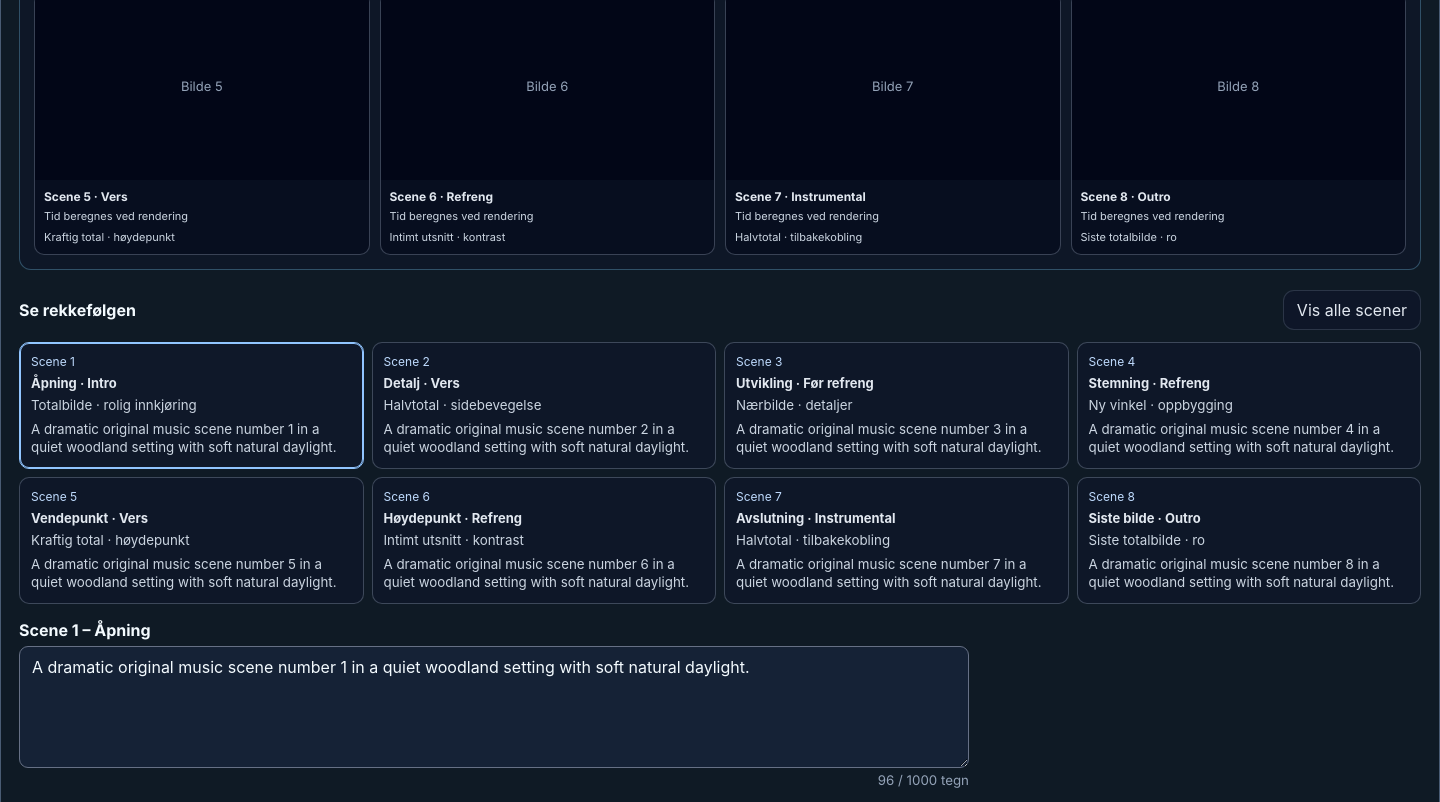
Test case: author-approved storyboard › can select a scene or show every scene in a responsive list
This screenshot has width=1440, height=802.
(page scrolled)
Click the button "Scene 3": (756, 362) [724,342,1068,469]
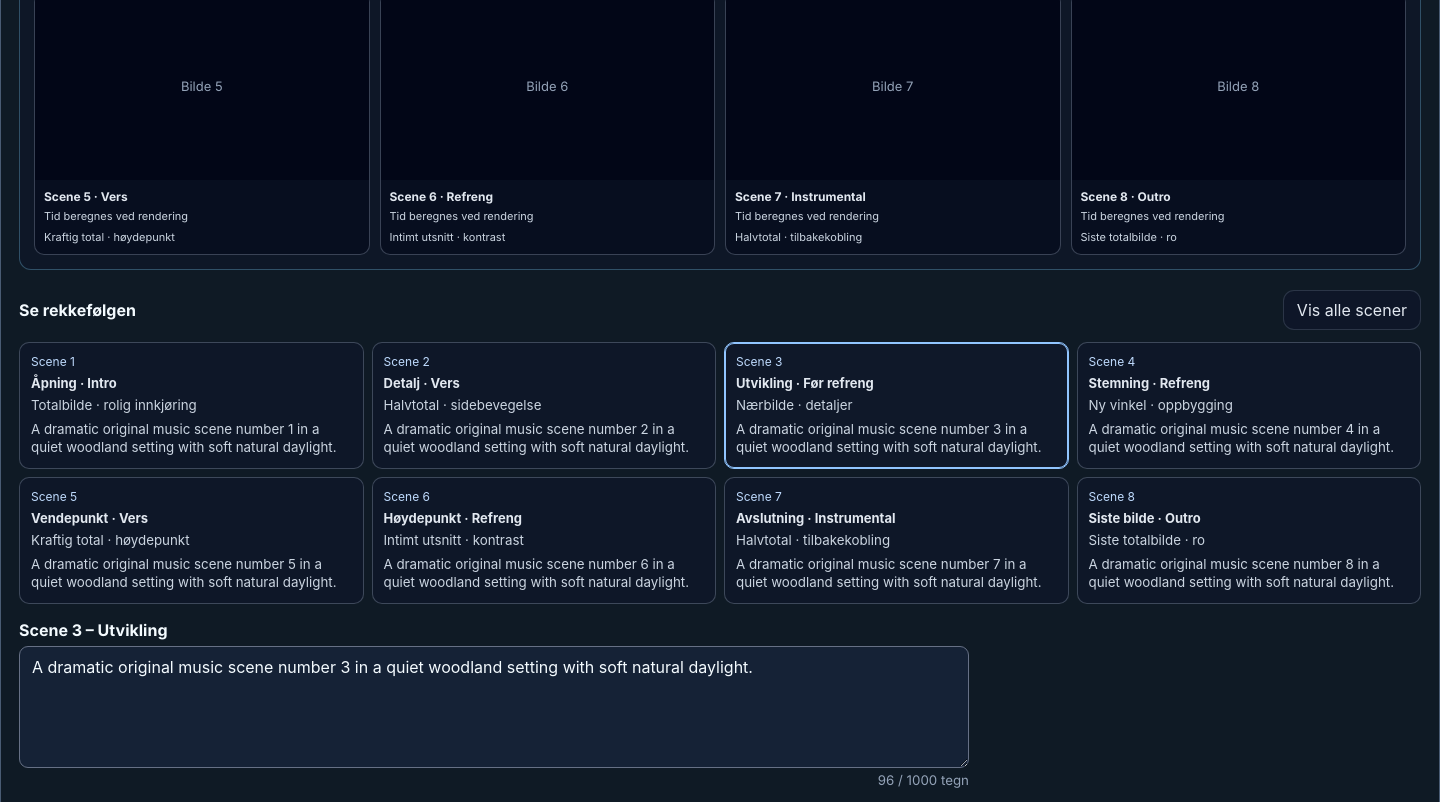
expect the text box labelled "Scene 3" is shown: met, box [19,646,969,768]
Click the button "Vis alle scener": (1352, 310) [1283,290,1421,330]
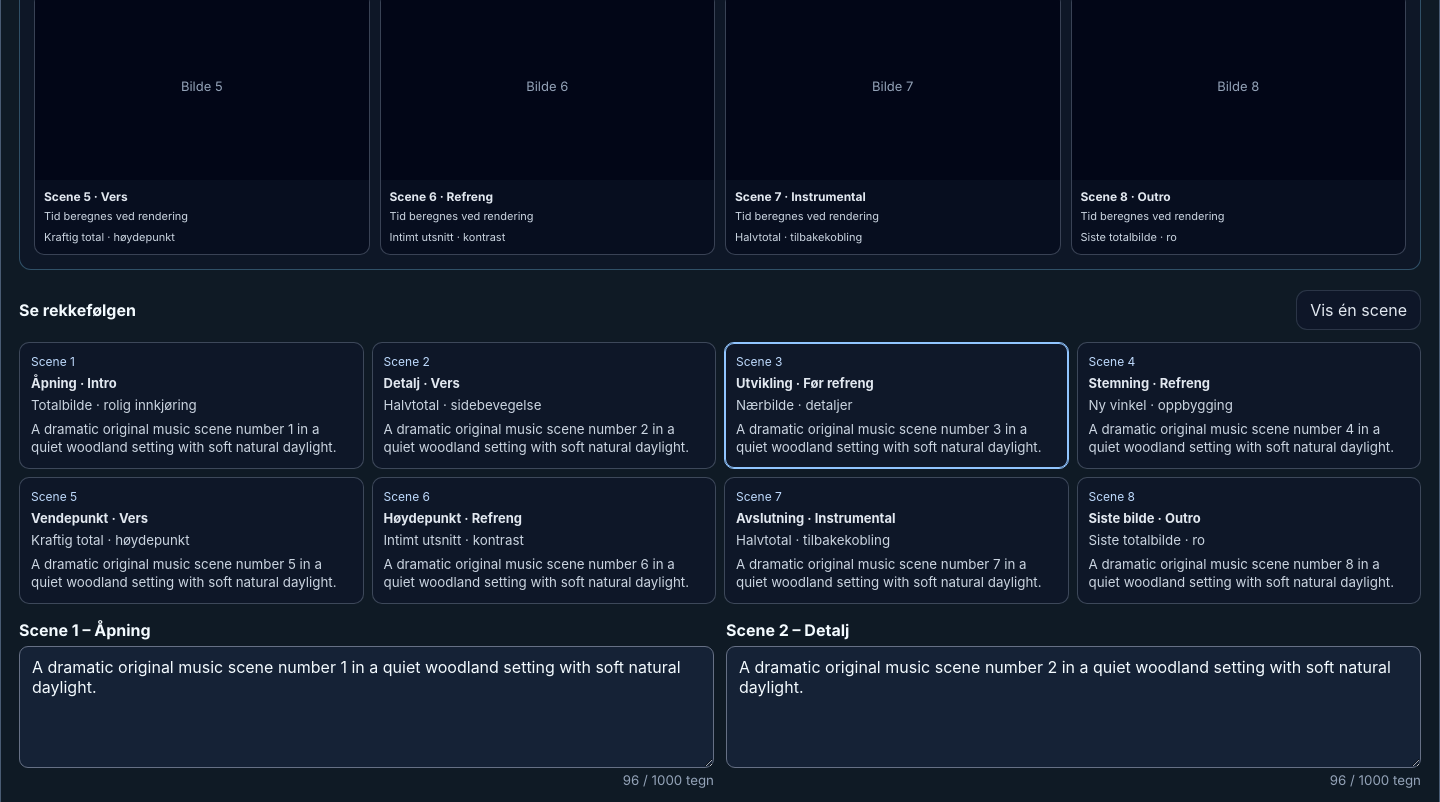
expect the button "Vis én scene" is shown: met, box [1296,290,1421,330]
